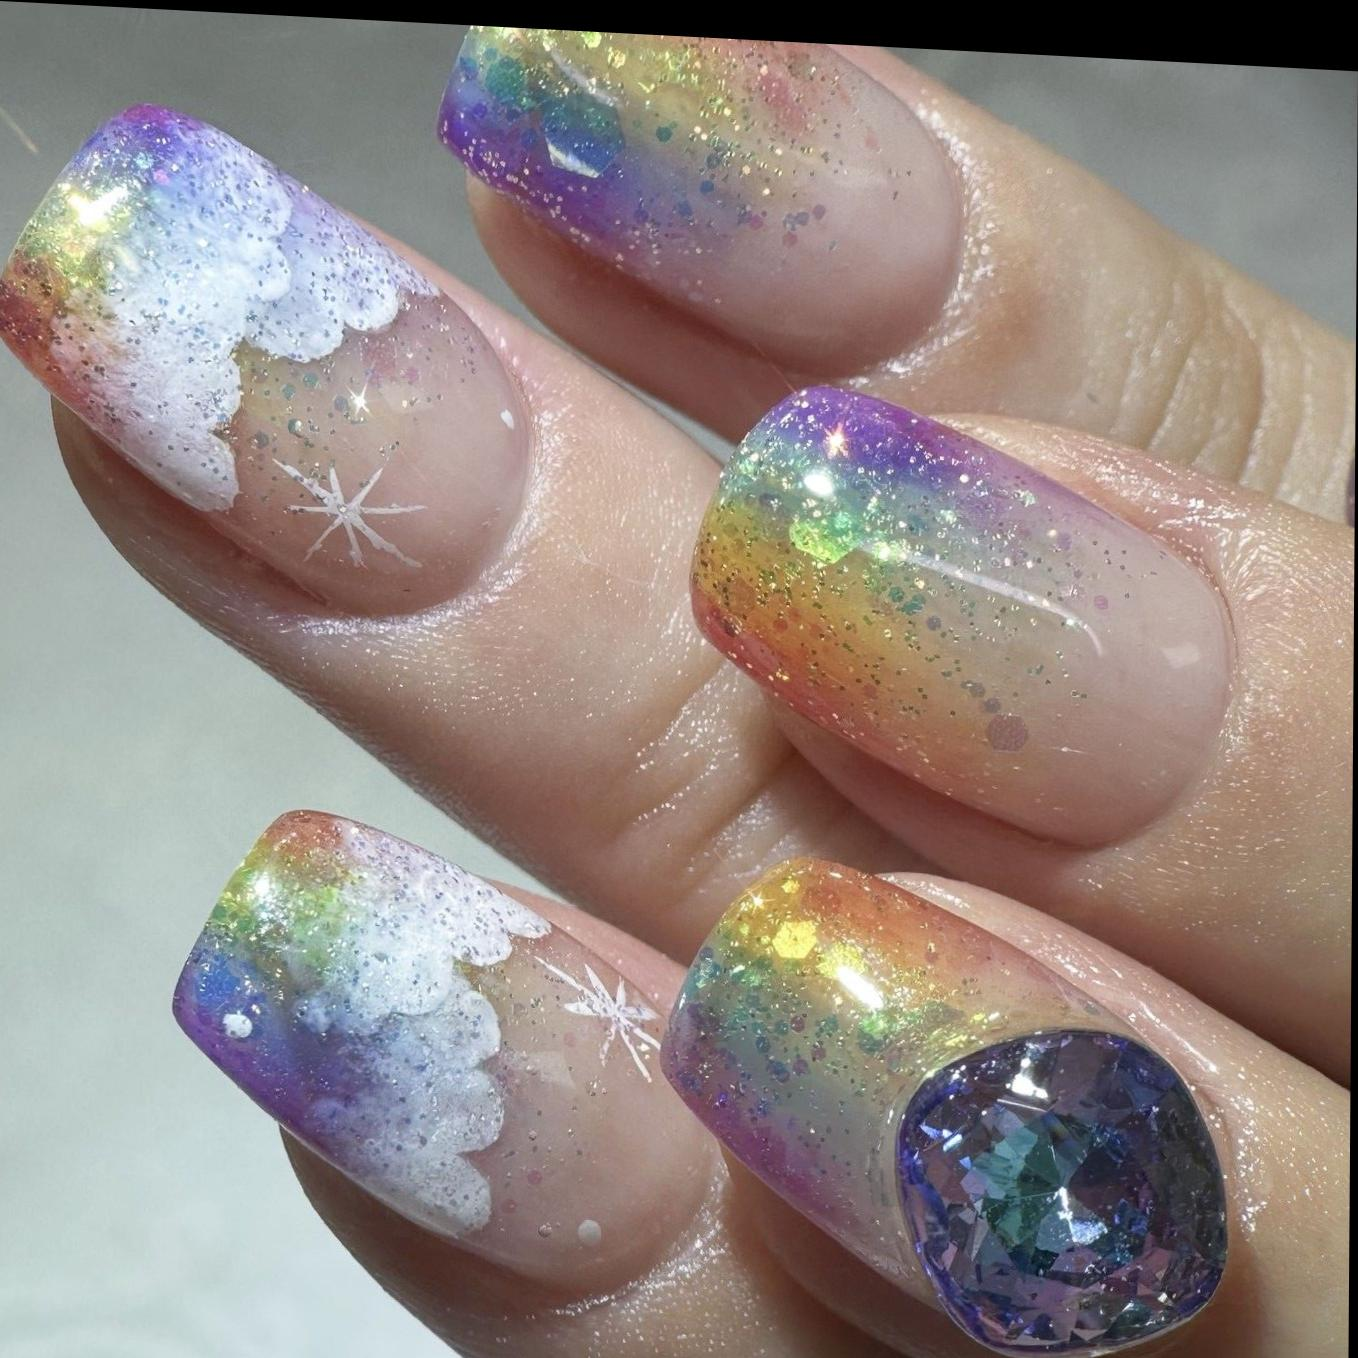nail: (658, 847, 1237, 1358), (0, 95, 540, 628), (169, 801, 723, 1303), (688, 376, 1241, 863), (435, 22, 972, 389)
